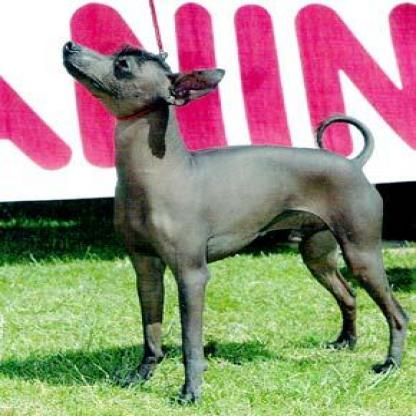Mexican_hairless: (61, 40, 411, 407)
